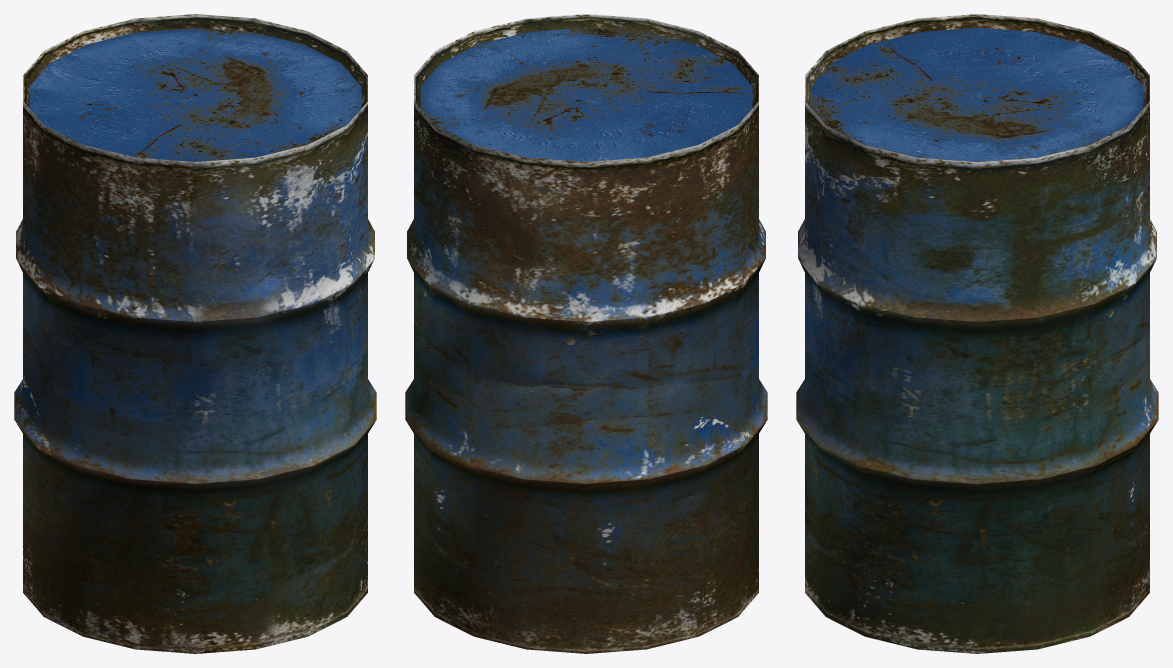
Rendered from barrel-1.FBX.
The picture shows the model from 3 angles, left to right: view 1: azimuth 30°, elevation 25°; view 2: azimuth 150°, elevation 25°; view 3: azimuth 270°, elevation 25°; orthographic projection.
Parts seen in each view (by area): view 1: Line01; view 2: Line01; view 3: Line01.
Part boxes in pixels (box(x1,y1,x2,y2)): Line01: box(14, 14, 376, 653); Line01: box(405, 14, 767, 653); Line01: box(796, 14, 1158, 653).
Bounding box in the file's own units: 79.02 × 77.82 × 117.
1 material, 1 textured.
